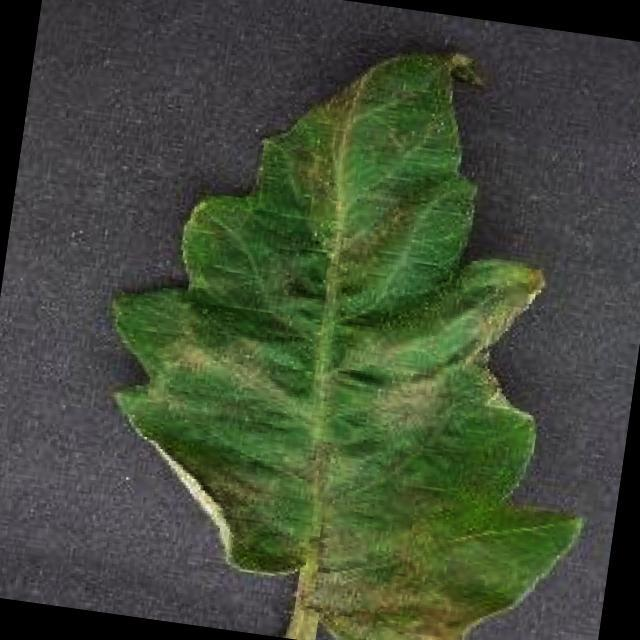Tomato late blight leaf: (67, 4, 640, 640)
